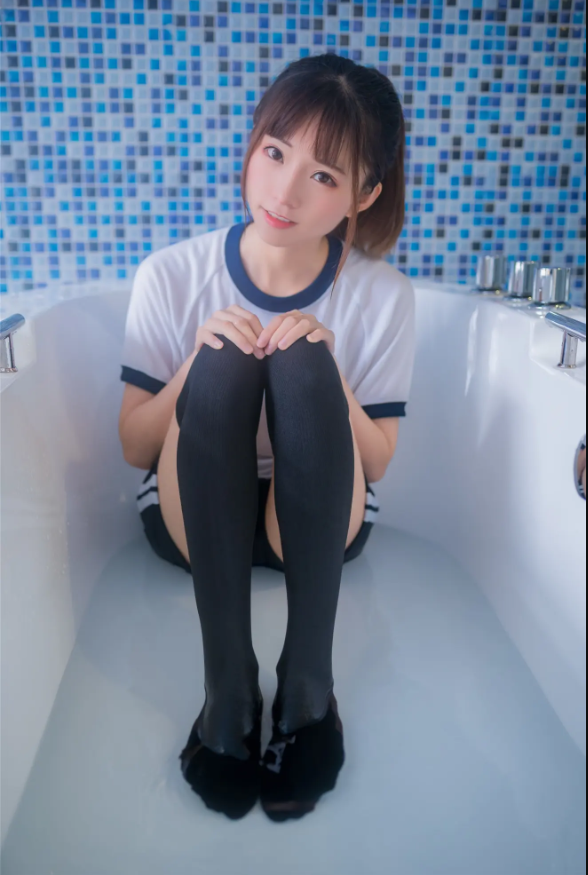person: (156, 50, 506, 867)
